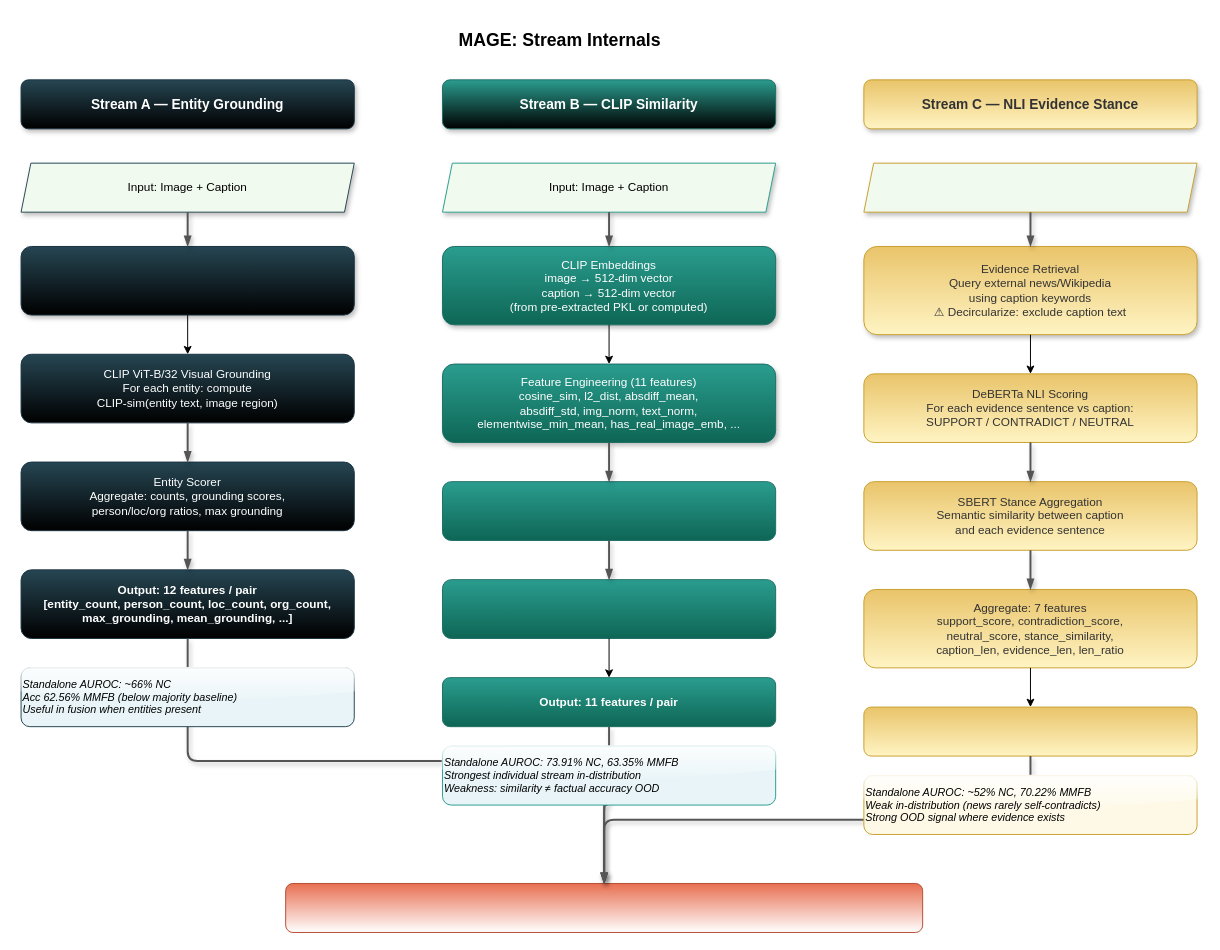
Some shapes in this 1220 by 950 pixel diagram are drawn without their labels. The centre of each missing label's shape, as x and y in pixels:
Input: Caption only (image not used in Stream C): point 1031,188
Output: 7 features / pair: point 1030,731
spaCy NER Extract named entities from caption: PERSON, LOC, ORG, DATE: point 188,282
Stage 1 MLP 3-layer network on all 11 features Train on NC + MMFB: point 608,510
Stage 2 MLP Fine-tune on hard negatives (high CLIP-sim but actually OOC): point 608,608
→ All 30 features feed into GSAF fusion (D1_gsaf_architecture.drawio): point 604,907
